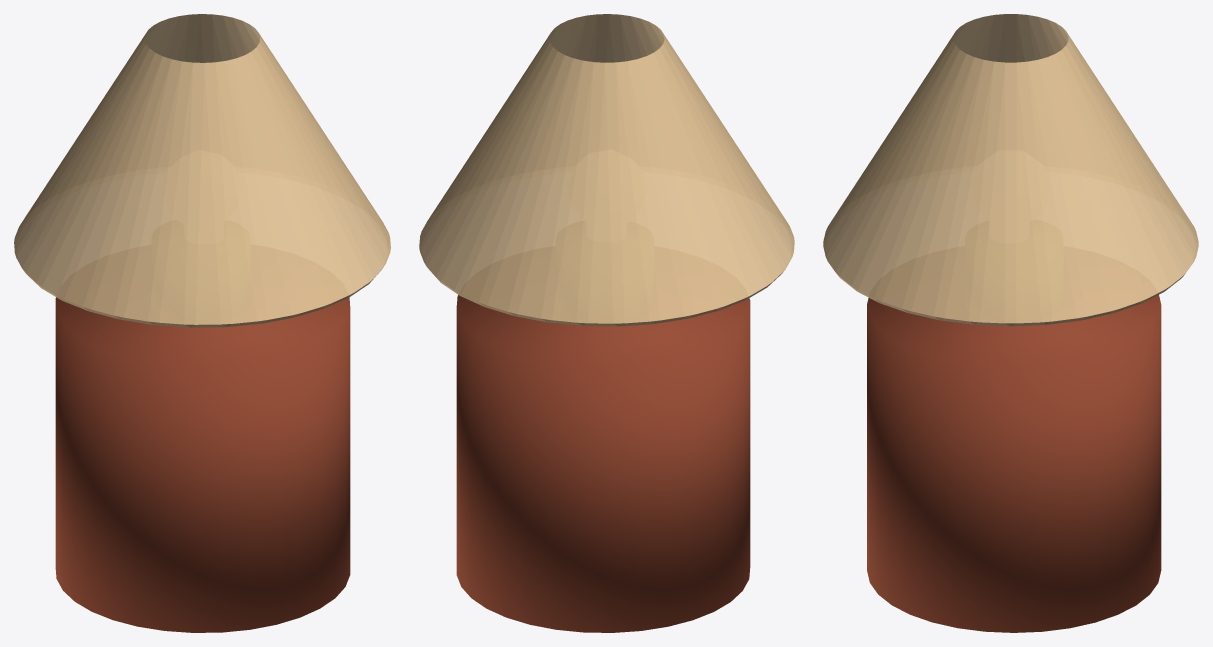
The model's file is lamp.glb.
3 renders of one model, left to right at view 1: azimuth 30°, elevation 25°; view 2: azimuth 150°, elevation 25°; view 3: azimuth 270°, elevation 25°, orthographic.
Visible parts, largest first — view 1: base, shade; view 2: base, shade; view 3: base, shade.
Boxes of the visible parts, x1,y1,x2,y2 form: base: (55, 297, 350, 632); shade: (14, 14, 390, 327); base: (456, 295, 750, 632); shade: (419, 14, 794, 326); base: (867, 294, 1161, 632); shade: (823, 14, 1198, 326).
Bounding box in the file's own units: 2.55 × 3.99 × 2.55.
